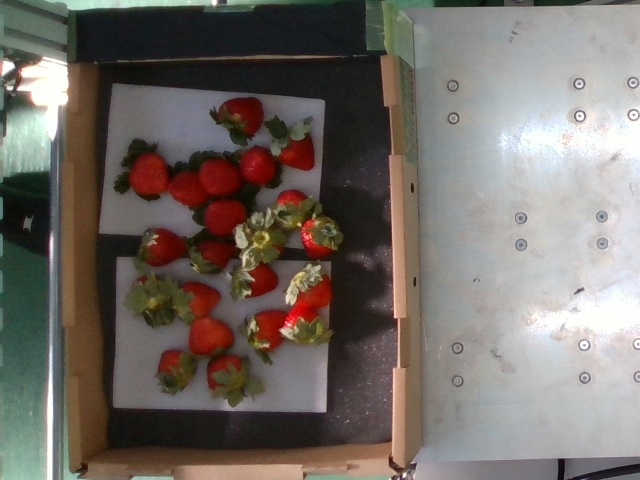strawberry: (218, 97, 264, 139), (189, 316, 235, 358), (141, 227, 186, 267), (249, 310, 291, 352), (273, 131, 316, 170), (290, 270, 333, 309), (175, 282, 222, 317), (241, 222, 283, 261), (130, 152, 168, 195), (198, 159, 242, 196), (235, 262, 280, 298), (302, 217, 339, 260), (204, 199, 246, 236), (135, 275, 172, 317), (206, 354, 246, 390), (169, 170, 208, 205), (241, 146, 275, 186), (276, 189, 310, 228), (194, 239, 234, 272), (159, 349, 196, 384), (284, 303, 318, 341)
